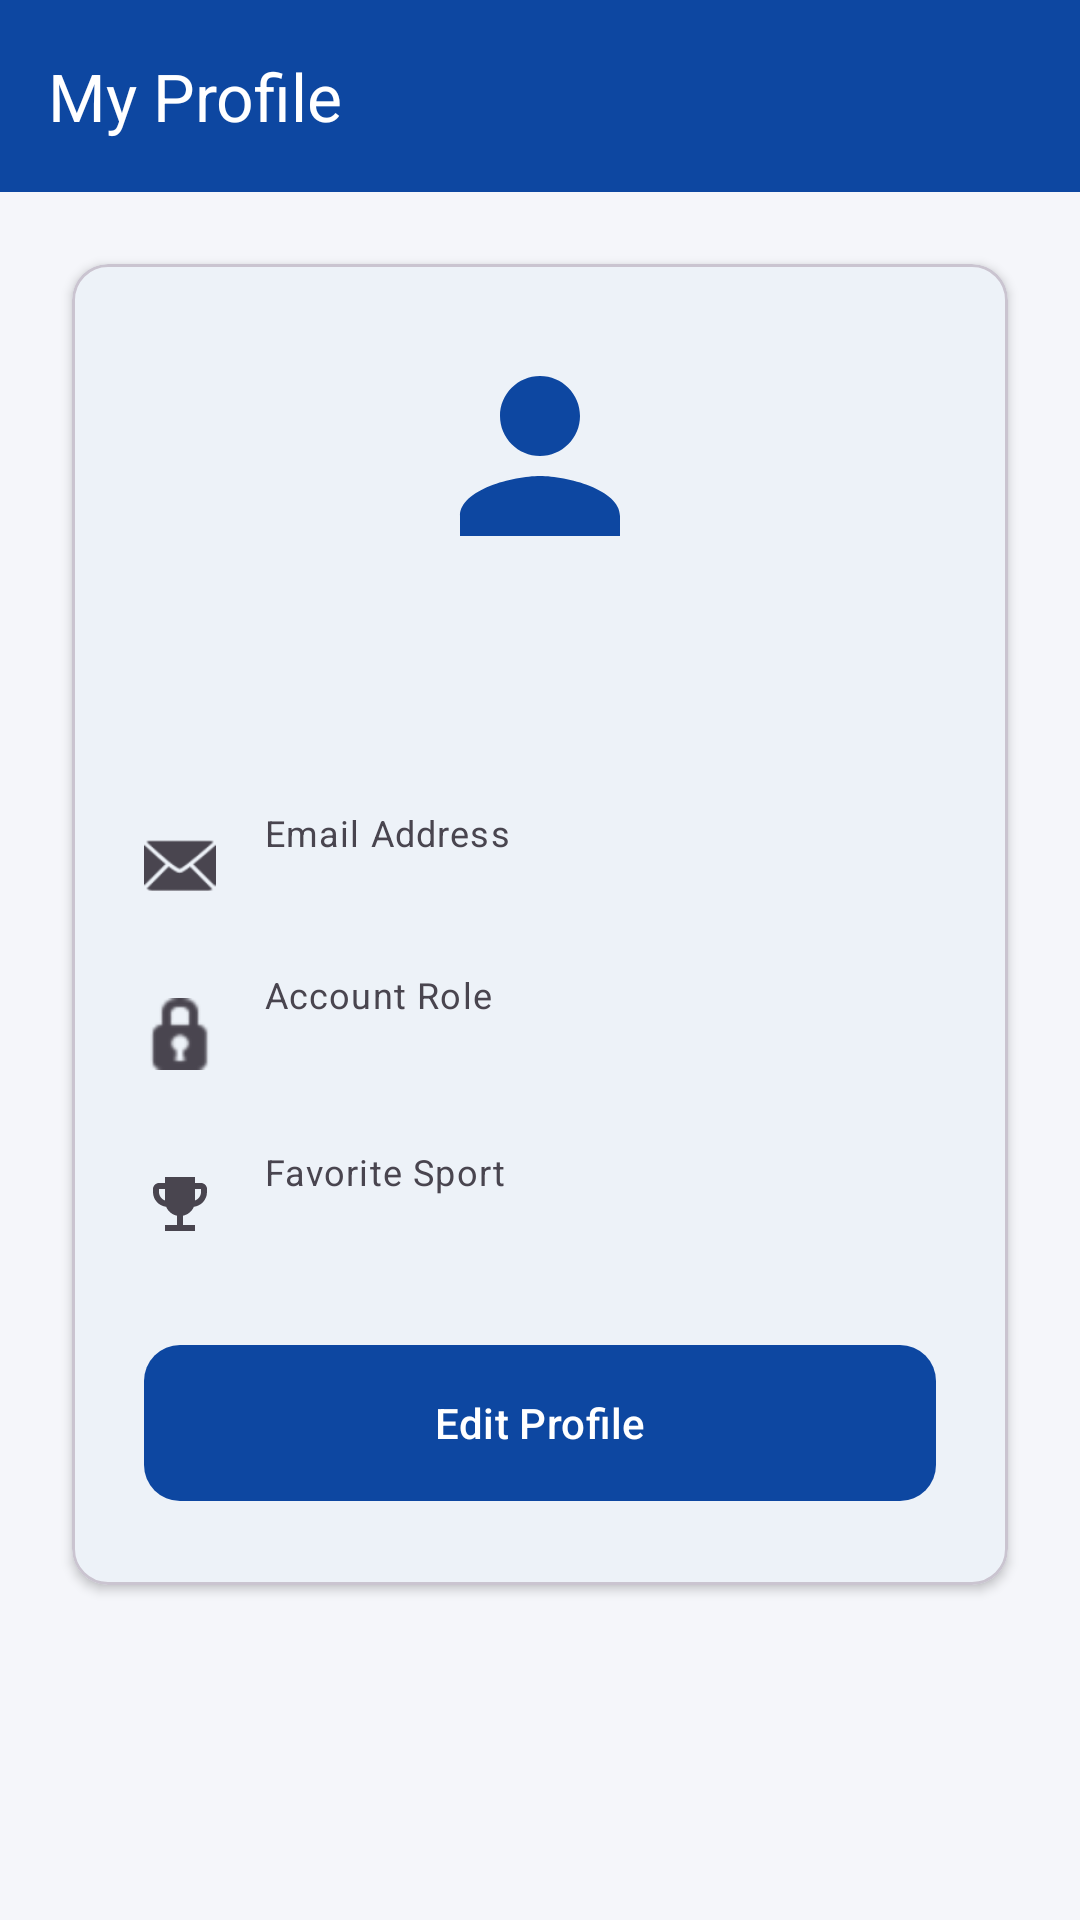

Icons on this 1080*1920 Android screen, each with its box as bbox=(x1, y1, x2, y2):
dash profile: bbox=(460, 376, 620, 536)
dash tournament: bbox=(153, 1177, 207, 1231)
secure: bbox=(152, 998, 208, 1070)
